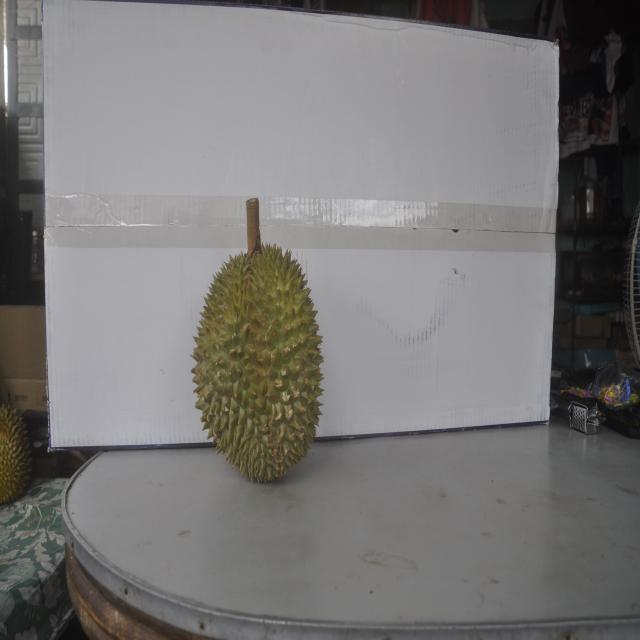mature: (190, 230, 328, 483), (0, 400, 34, 505)
